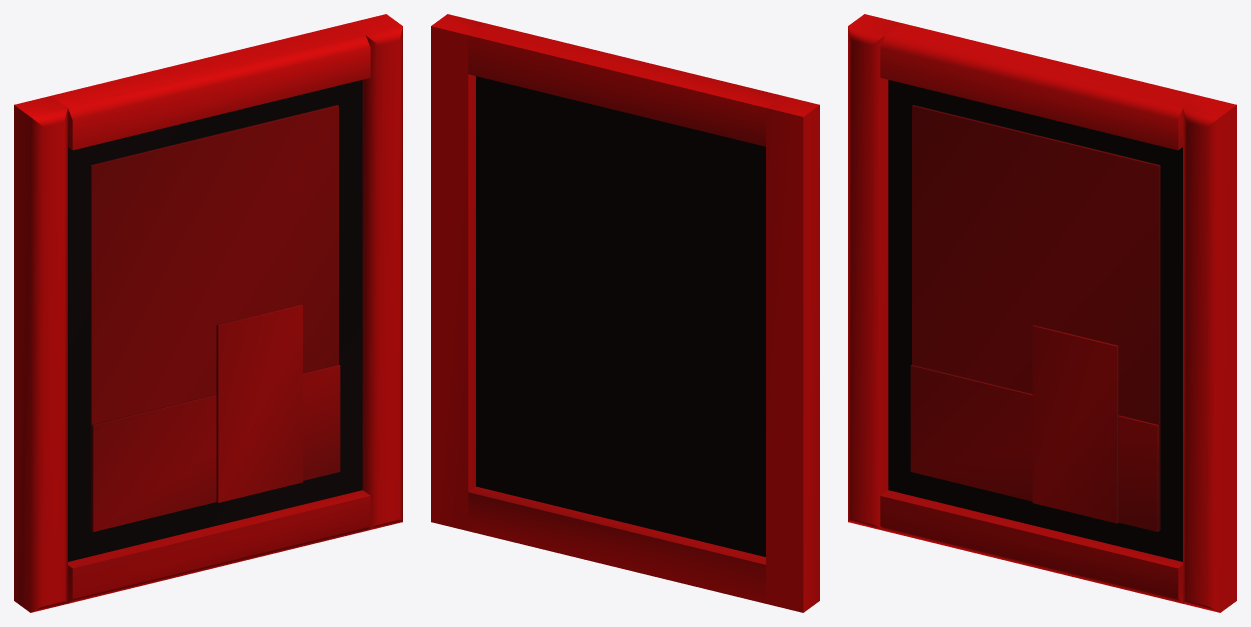
The model's file is CI_Decor_Frame_Small.glb.
3 views of the same model, side by side, from view 1: azimuth 30°, elevation 25°; view 2: azimuth 150°, elevation 25°; view 3: azimuth 330°, elevation 25° (orthographic).
Parts seen in each view (by area): view 1: CI_Decor_Frame_Small; view 2: CI_Decor_Frame_Small; view 3: CI_Decor_Frame_Small.
Boxes of the visible parts, <box> form: CI_Decor_Frame_Small: <box>14,14,402,612</box>; CI_Decor_Frame_Small: <box>431,14,819,612</box>; CI_Decor_Frame_Small: <box>848,14,1236,612</box>.
Size of the model in its own units: 0.22 by 0.28 by 0.022.
